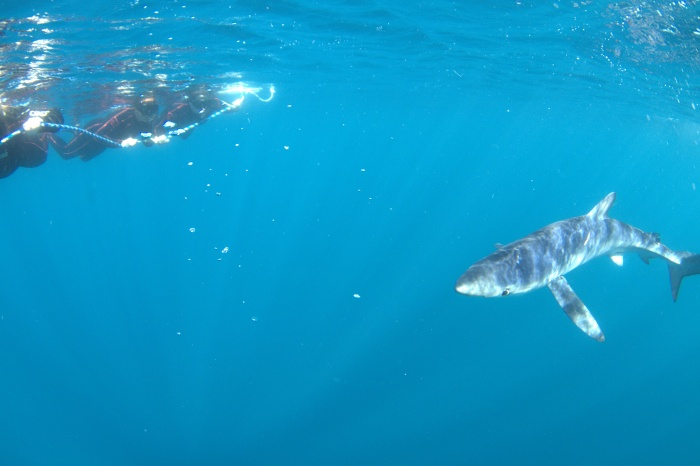Azul: (423, 175, 700, 351)
